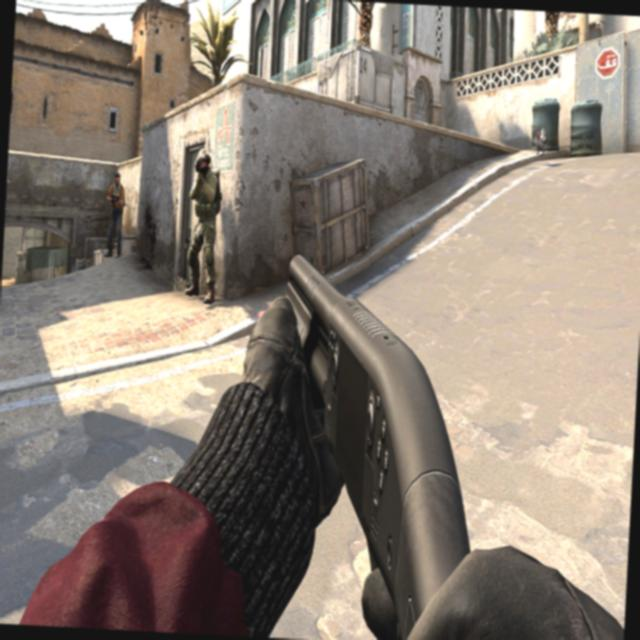shotgun: (262, 240, 496, 630)
